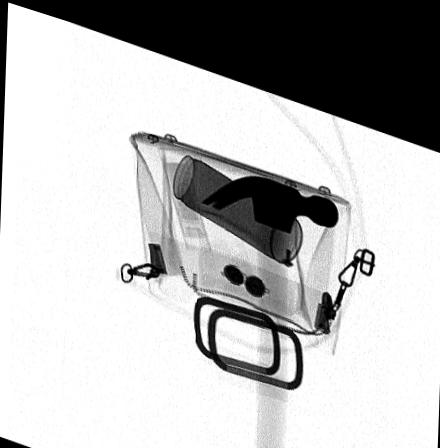Hammer: (200, 158, 337, 448)
